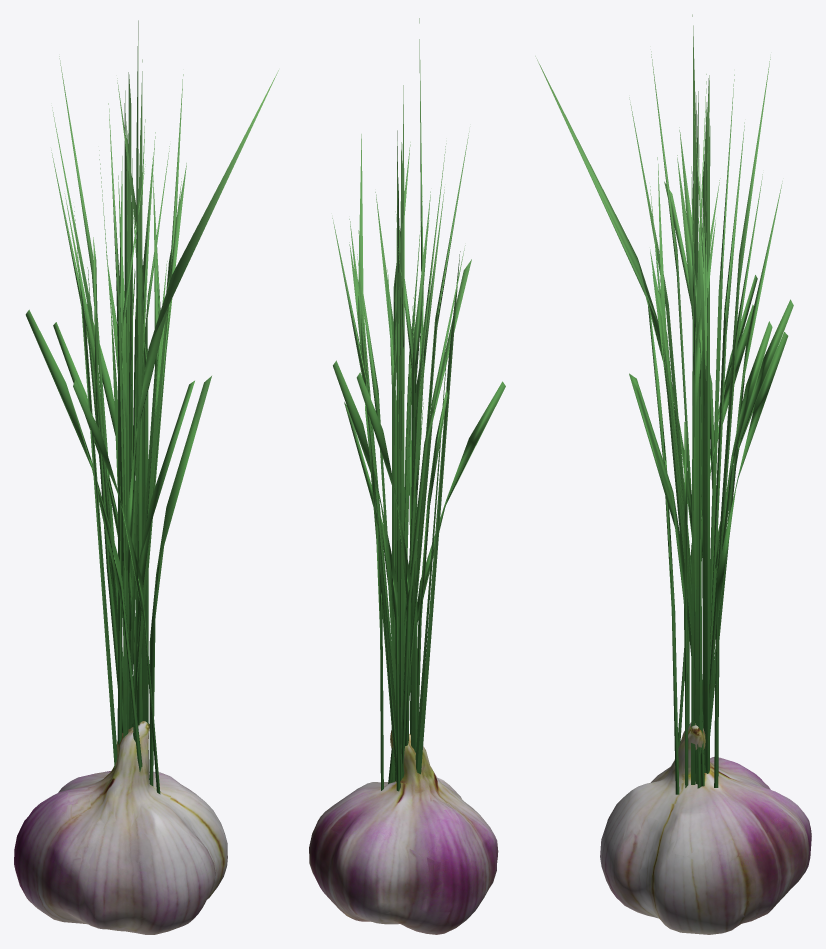
The model's file is garlic_plant.glb.
The picture shows the model from 3 angles, left to right: view 1: azimuth 30°, elevation 25°; view 2: azimuth 150°, elevation 25°; view 3: azimuth 270°, elevation 25°; orthographic projection. The views are drawn at different scales.
Visible parts, largest first — view 1: Object_12, mesh_base_material_0; view 2: Object_12, mesh_base_material_0; view 3: Object_12, mesh_base_material_0.
Part boxes in pixels (box(x1,y1,x2,y2)): Object_12: box(25, 20, 278, 794); mesh_base_material_0: box(14, 721, 227, 934); Object_12: box(332, 18, 505, 791); mesh_base_material_0: box(309, 730, 498, 934); Object_12: box(535, 14, 793, 794); mesh_base_material_0: box(600, 722, 811, 934).
Bounding box in the file's own units: 0.4967 × 2.38 × 0.666.
Materials: 2 (2 with a texture image).
